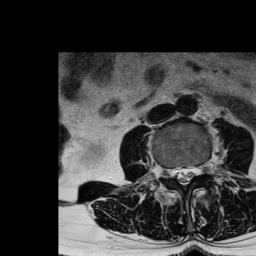CCS_normal: (181, 159, 187, 194)
LFS_normal: (196, 155, 205, 180)
LLS_normal: (187, 159, 196, 185)
RFS_normal: (166, 159, 174, 185)
RLS_normal: (174, 160, 181, 187)
